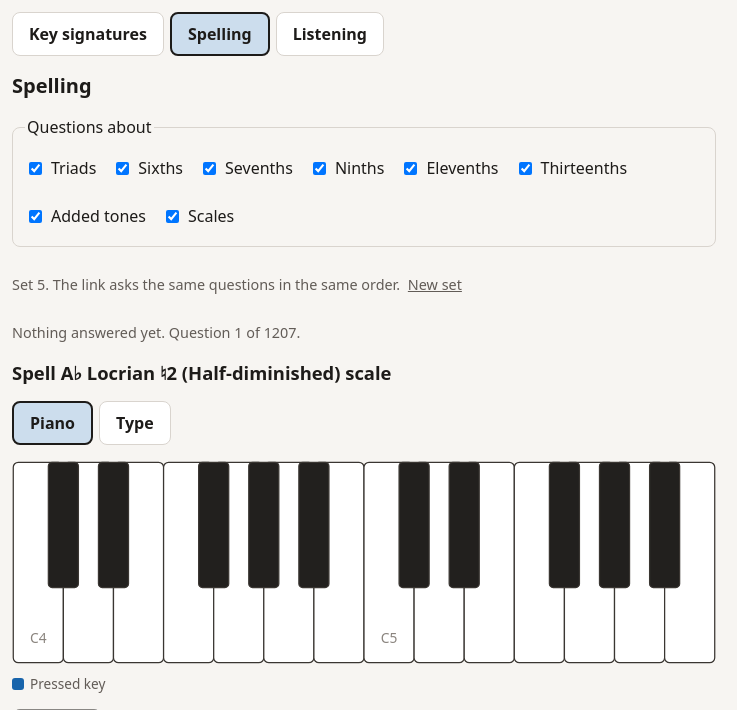
Test: Quiz: the spelling drill › tells a typed answer that makes no sense
Step 1. Click the button "Type" → (135, 423), box [99,401,171,445]
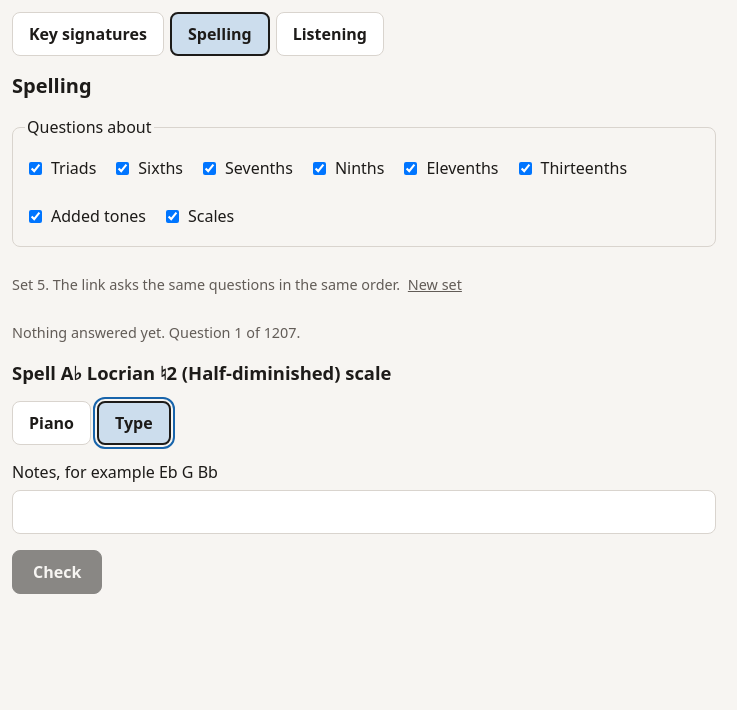
Step 2. Type "Eb flat" into the field → (364, 512), box [12,490,716,534]
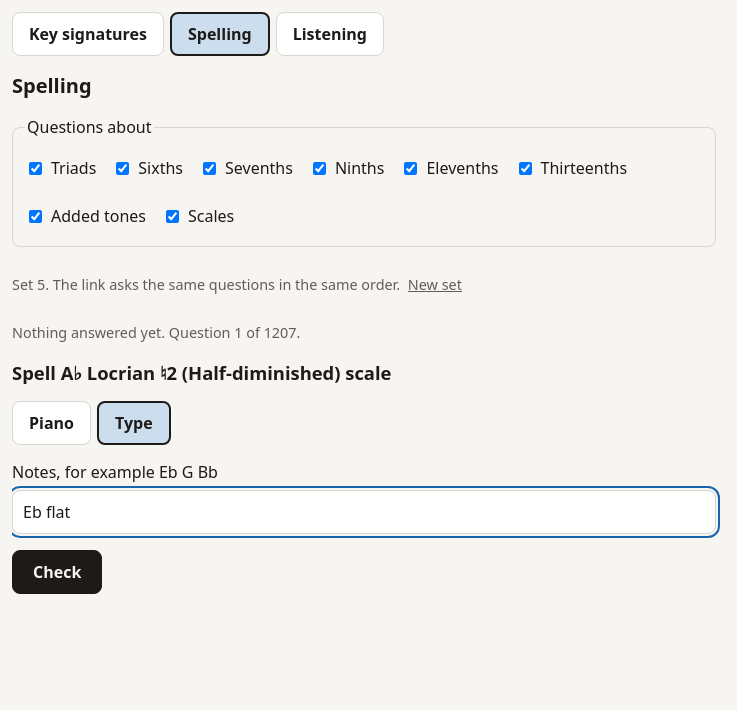
Step 3. Click the button "Check" → (57, 572), box [12,550,102,594]
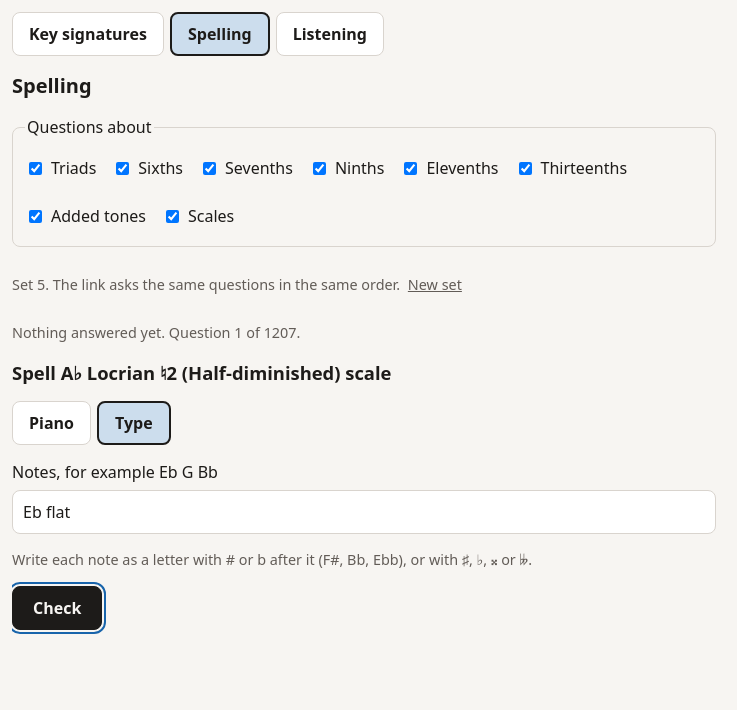
Check: the text "Nothing answered yet. Question 1 of 1207." is shown, box [12,323,300,342]
Check: the message is shown, box [12,550,532,569]
